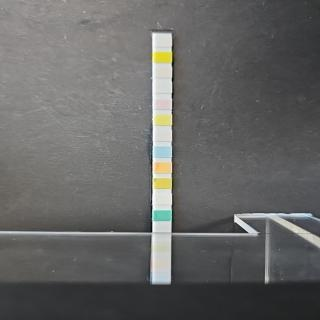mark: (154, 161, 172, 174), (153, 145, 171, 157), (153, 129, 171, 141), (154, 81, 172, 93), (154, 51, 172, 63), (154, 35, 172, 47), (154, 114, 172, 125), (154, 210, 170, 222), (154, 178, 170, 190), (154, 98, 171, 109), (154, 67, 171, 78), (154, 194, 171, 204)
